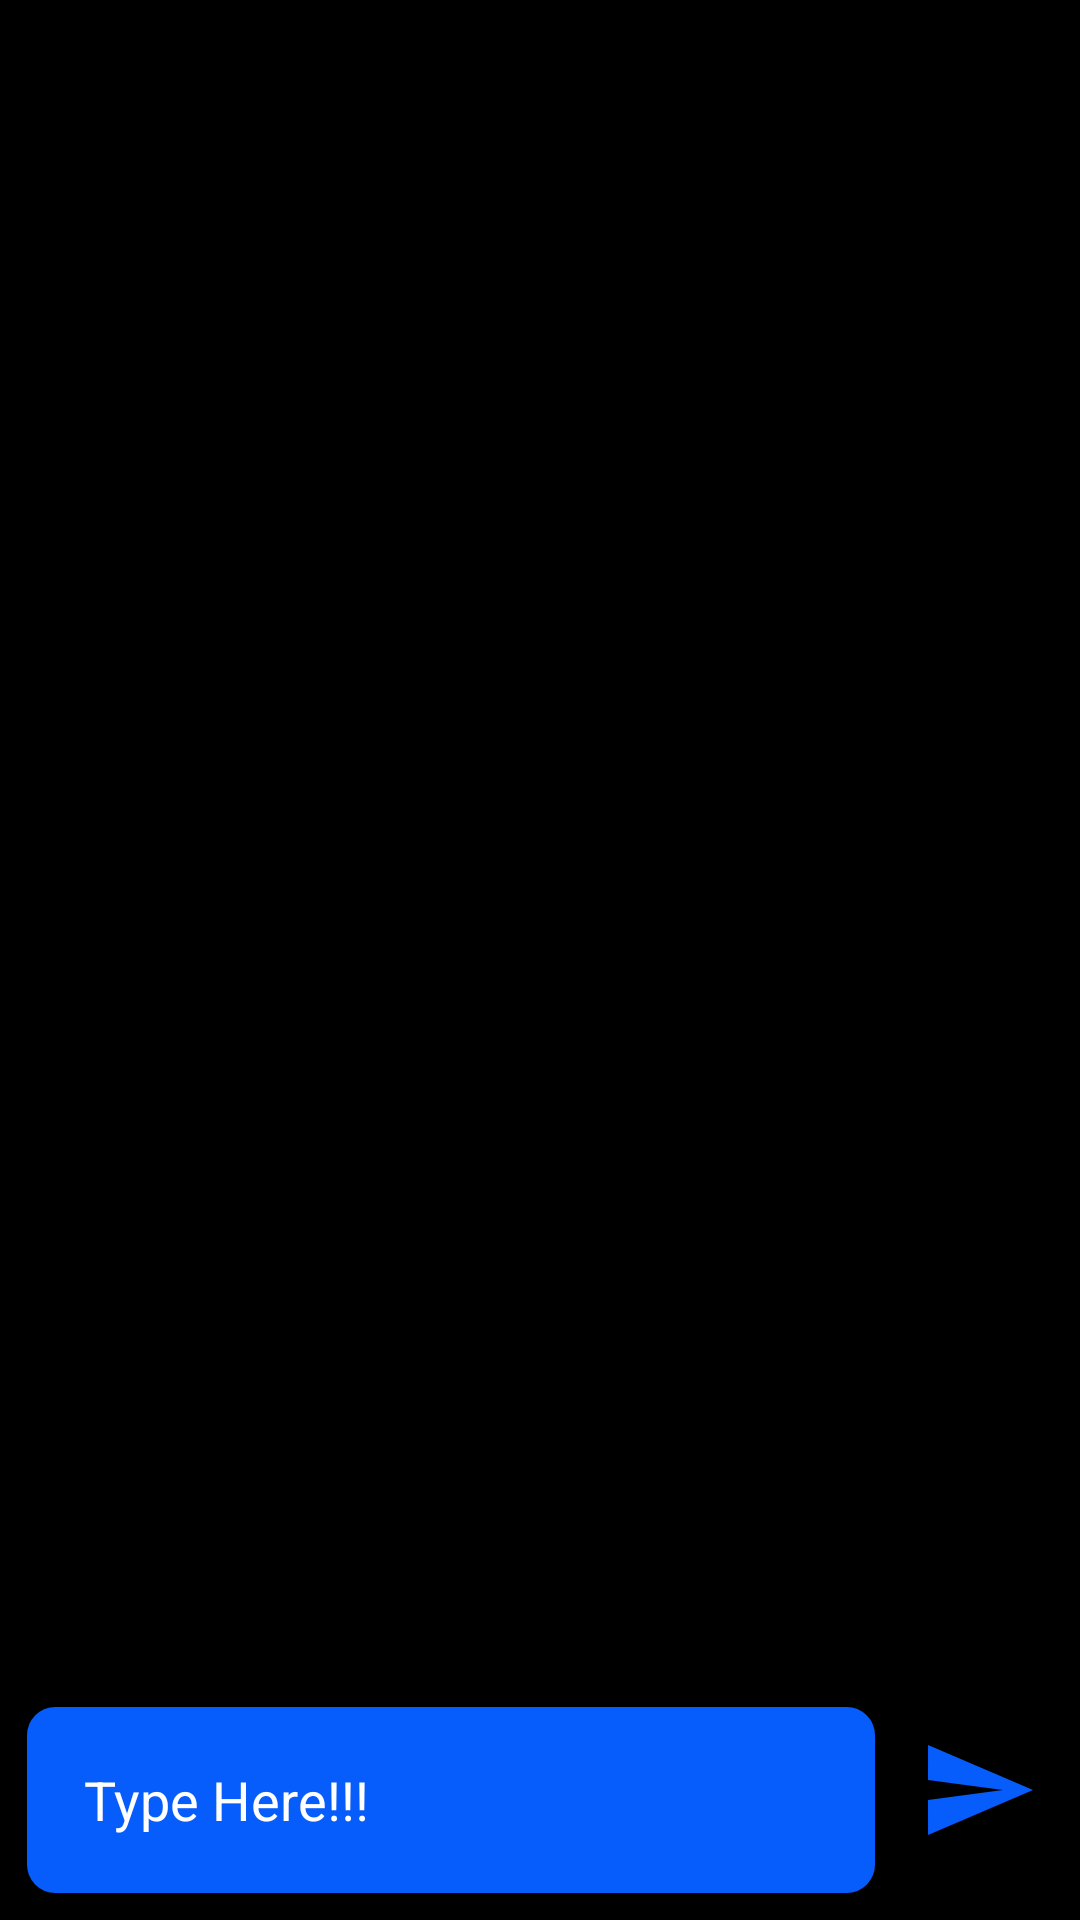

Point at icon controls on the screen. Image size 1080px×1920px, points as [x,y].
send: [980,1790]
